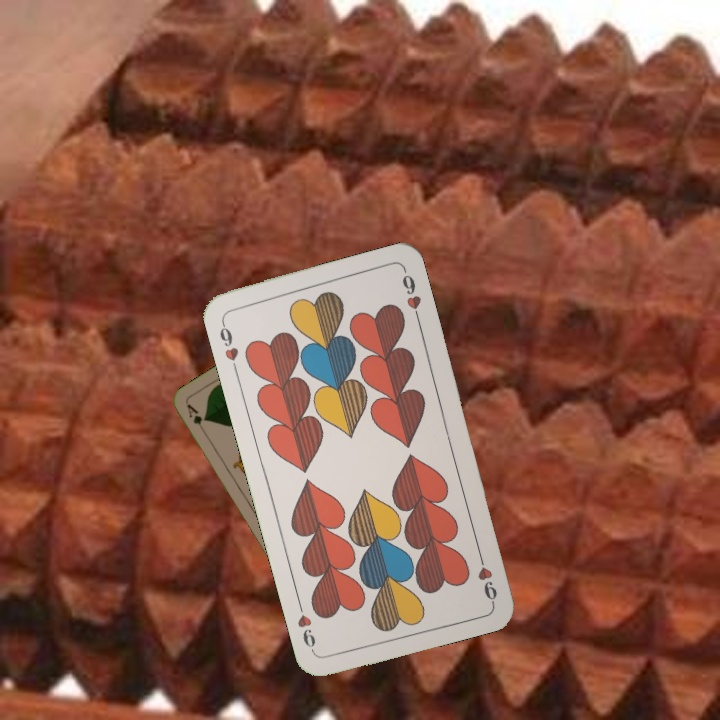GA: (183, 400, 209, 437)
H9: (473, 547, 500, 605), (215, 316, 241, 374)
